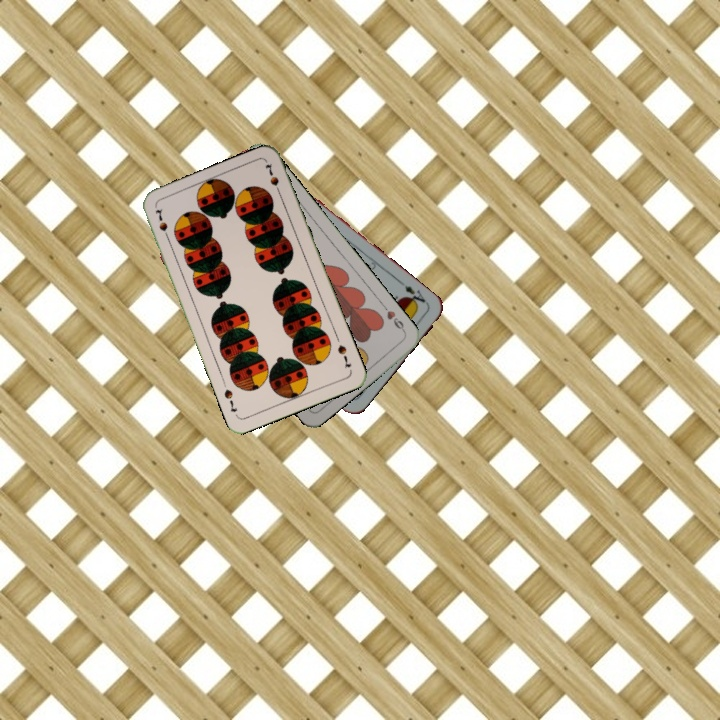EA: (396, 277, 430, 309)
H9: (379, 301, 408, 336)
S7: (151, 205, 172, 243), (333, 341, 354, 371)
